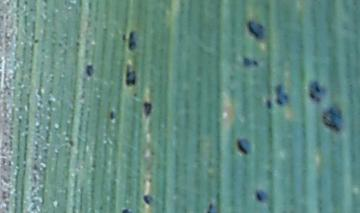tarspot: (319, 105, 343, 134), (244, 18, 266, 42), (307, 81, 327, 105), (233, 136, 253, 157), (274, 81, 290, 107), (123, 61, 138, 88), (140, 100, 155, 119), (127, 30, 139, 52), (254, 190, 269, 203), (240, 54, 252, 69), (141, 193, 154, 206), (84, 63, 95, 78), (264, 98, 274, 110), (108, 109, 117, 122), (250, 57, 259, 69), (205, 202, 214, 213), (120, 207, 133, 213), (119, 33, 126, 42)
